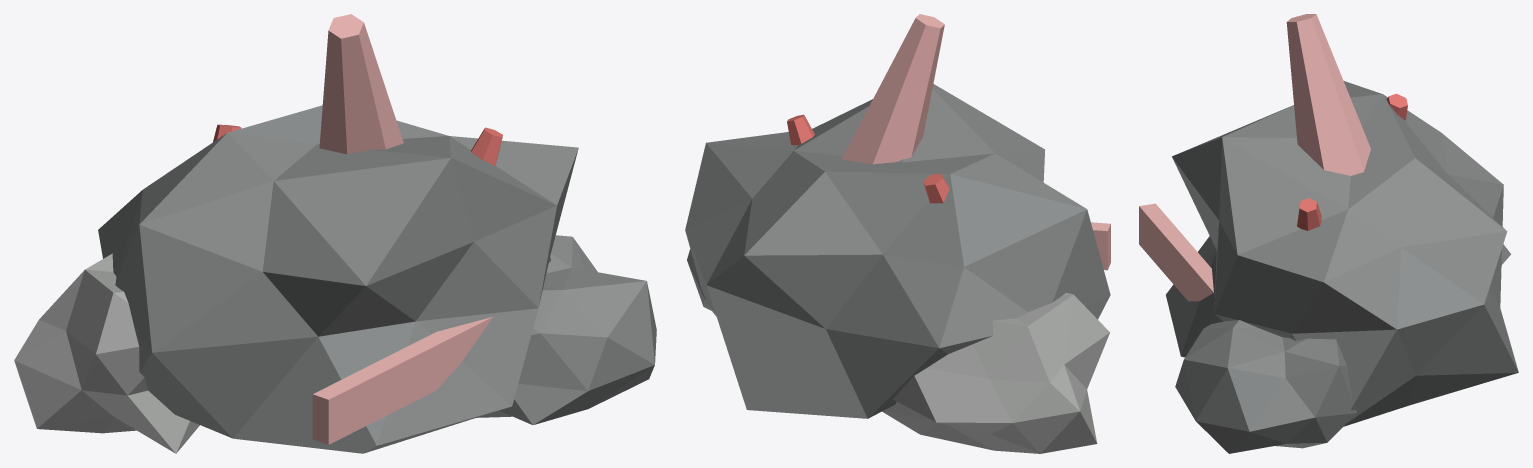
The model's file is t5_ore_full.glb.
3 views of the same model, side by side, from view 1: azimuth 30°, elevation 25°; view 2: azimuth 150°, elevation 25°; view 3: azimuth 270°, elevation 25° (orthographic). The views are drawn at different scales.
Visible parts, largest first — view 1: OreHostCenter, OreHostLeft, OreHostRight, FrontOreVein, CenterOreShard, RightOreShard; view 2: OreHostCenter, OreHostLeft, CenterOreShard, FrontOreVein, RightOreShard, LeftOreShard; view 3: OreHostCenter, OreHostRight, CenterOreShard, FrontOreVein, RightOreShard.
Boxes of the visible parts, x1,y1,x2,y2 form: OreHostCenter: (98,105,578,453); OreHostLeft: (14,253,199,453); OreHostRight: (476,235,656,424); FrontOreVein: (312,317,492,444); CenterOreShard: (319,14,403,154); RightOreShard: (471,127,502,165); OreHostCenter: (685,84,1110,418); OreHostLeft: (882,292,1109,453); CenterOreShard: (841,14,944,164); FrontOreVein: (1091,222,1110,270); RightOreShard: (787,114,814,145); LeftOreShard: (923,173,949,203); OreHostCenter: (1166,81,1518,426); OreHostRight: (1175,320,1356,453); CenterOreShard: (1286,14,1370,175); FrontOreVein: (1139,203,1213,301); RightOreShard: (1297,198,1321,230).
Bounding box in the file's own units: 1.48 × 1.1 × 1.08.
